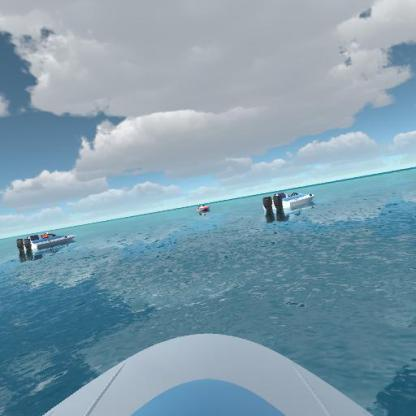usv1: (256, 186, 324, 218), (13, 230, 80, 256)
usv3: (191, 199, 215, 215)
